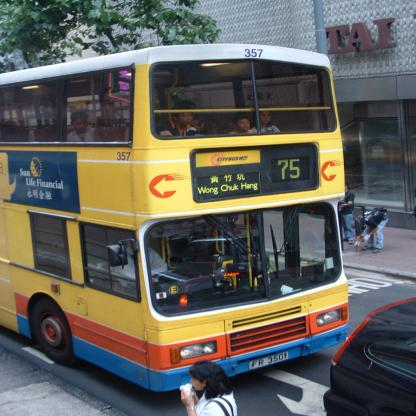Bus: (0, 44, 349, 392)
